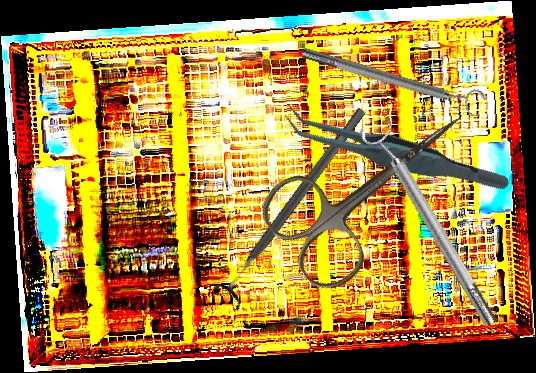Fixation Ring: (208, 99, 378, 312), (357, 113, 506, 334), (297, 36, 489, 121)
Iris Scissors: (250, 71, 499, 300)
Tissue Forceps: (277, 66, 513, 237)
